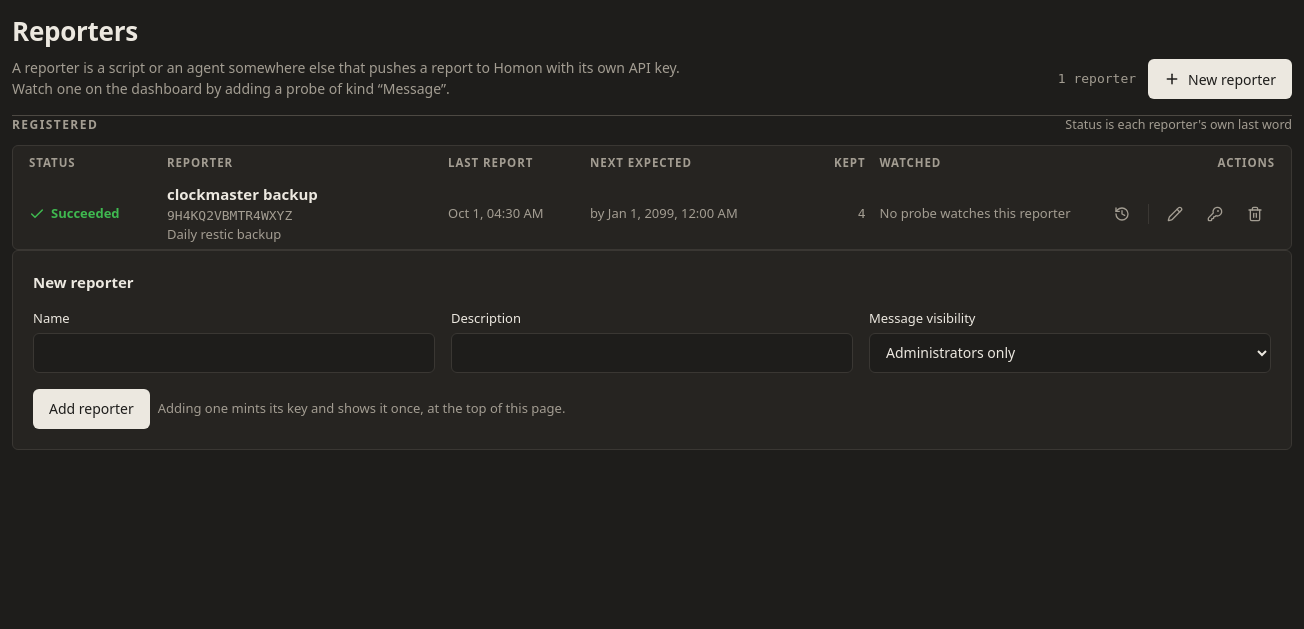
Test: AdminReportersPage › replacing a key is a two-step confirmation and reveals the replacement
This screenshot has width=1304, height=629.
expect the text "clockmaster backup" is shown: met, box [167,183,318,206]
Click the button named "Replace the key for clockmaster backup".
click(1215, 214)  # box [1195,194,1235,234]
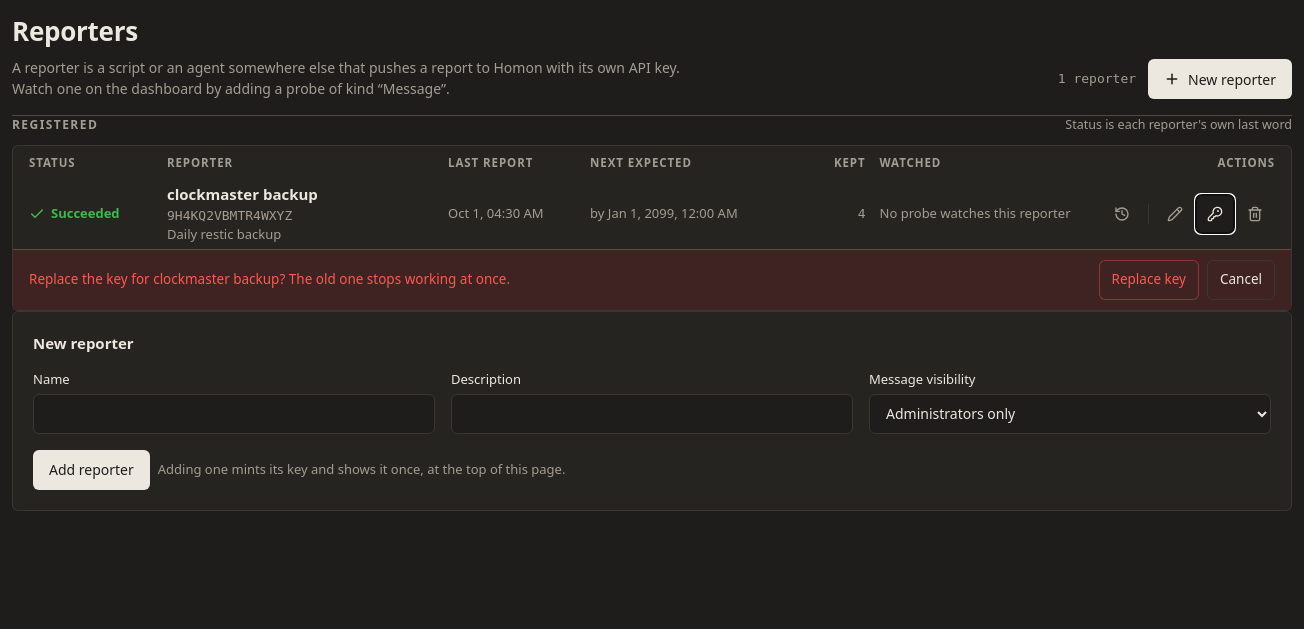
Click the button with aria-label "Confirm replace the key for clockmaster backup".
click(1149, 280)  # box [1098,260,1199,300]
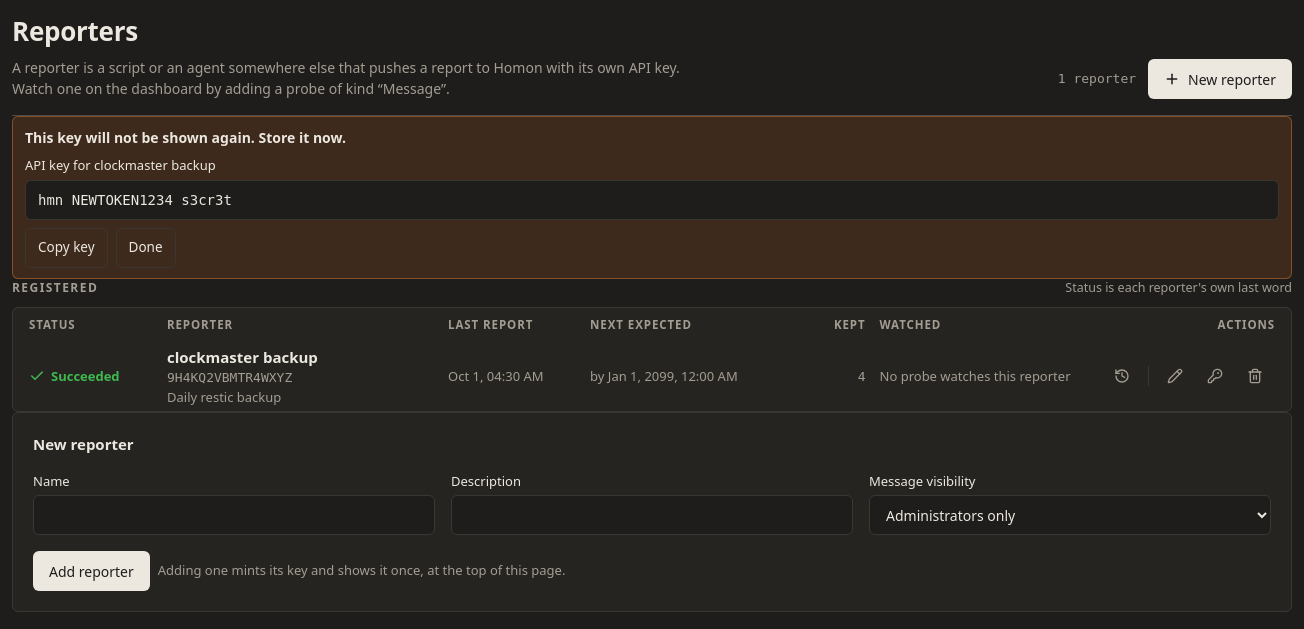
expect the message is shown: met, box [12,116,1292,278]
expect the field labelled "API key for clockmaster backup" holds "hmn_NEWTOKEN1234_s3cr3t": met, box [25,180,1279,220]
